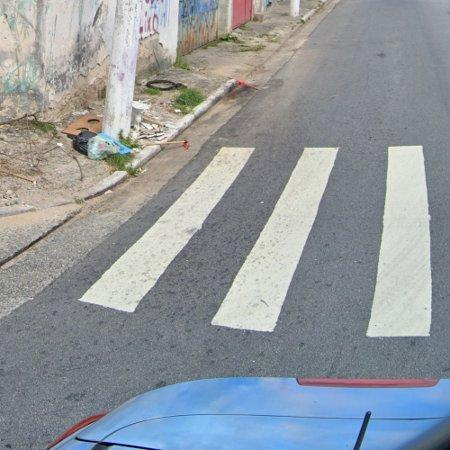crosswalks: (80, 144, 445, 336)
